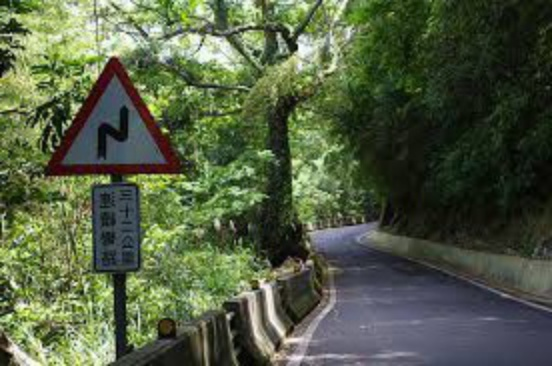Double_bend_right: (37, 54, 186, 177)
